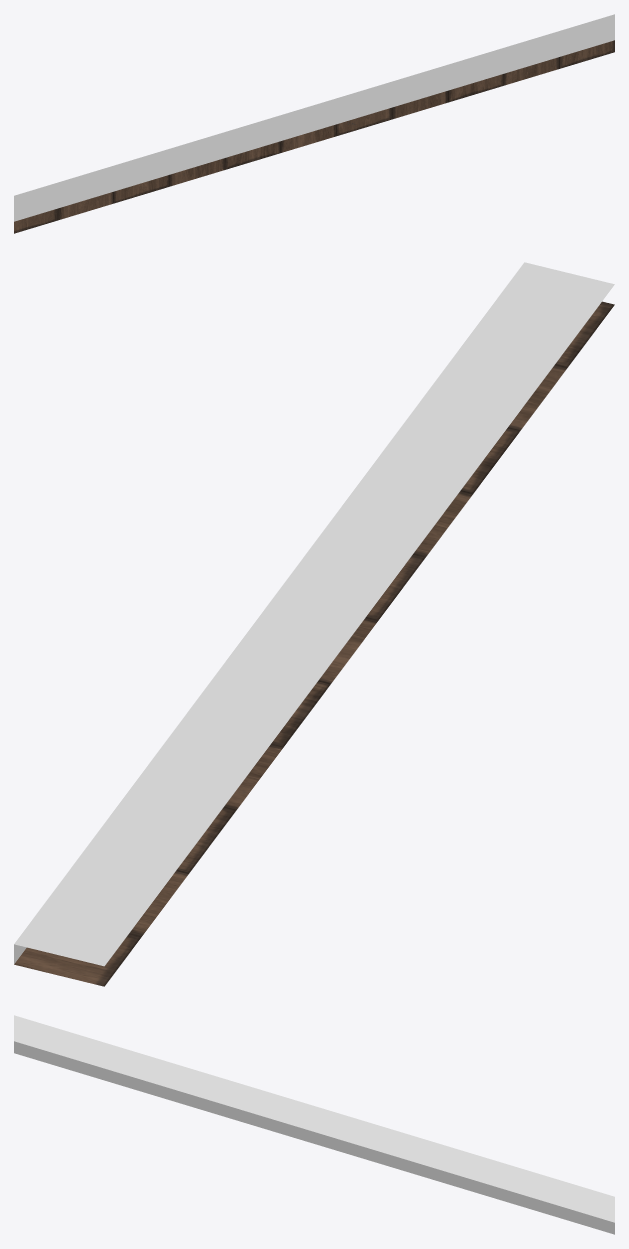
File: Roof_2mH_Side_A.fbx
3 renders of one model, top to bottom at view 1: azimuth 90°, elevation 25°; view 2: azimuth 150°, elevation 25°; view 3: azimuth 270°, elevation 25°, orthographic. The views are drawn at different scales.
Parts seen in each view (by area): view 1: Roof_2mH_Side_A; view 2: Roof_2mH_Side_A; view 3: Roof_2mH_Side_A.
Part boxes in pixels (x1,y1,x2,y2): Roof_2mH_Side_A: (14,14,614,233); Roof_2mH_Side_A: (14,262,614,986); Roof_2mH_Side_A: (14,1015,614,1234).
Bounding box in the file's own units: 0.6144 × 6 × 2.13.
